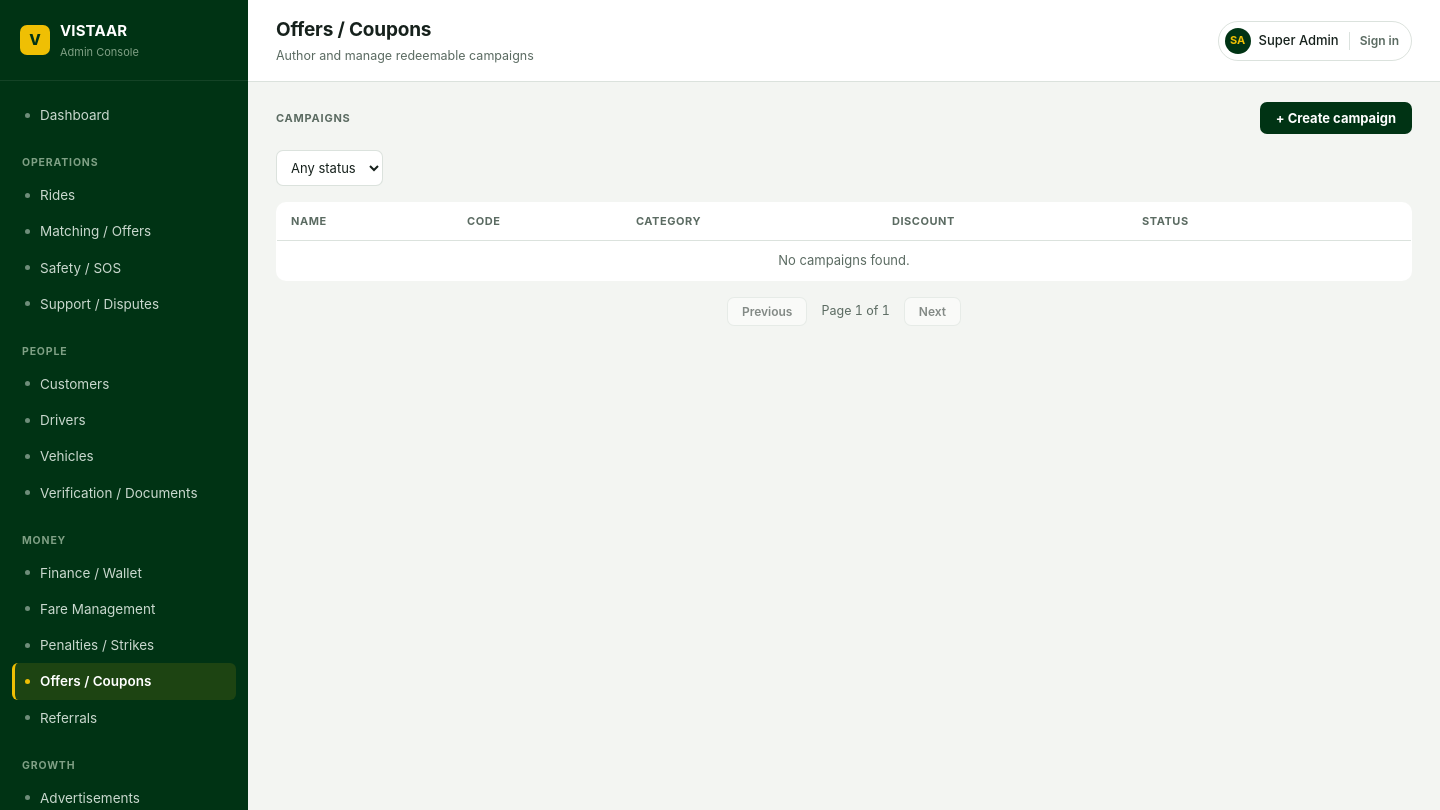
Scenario: CampaignsPage › creates a DRAFT campaign and refreshes the list
Expected: the text "No campaigns found." is shown, [276,240,1412,281]
Click the button "+ Create campaign".
click(1336, 118)  # box [1260,102,1412,134]
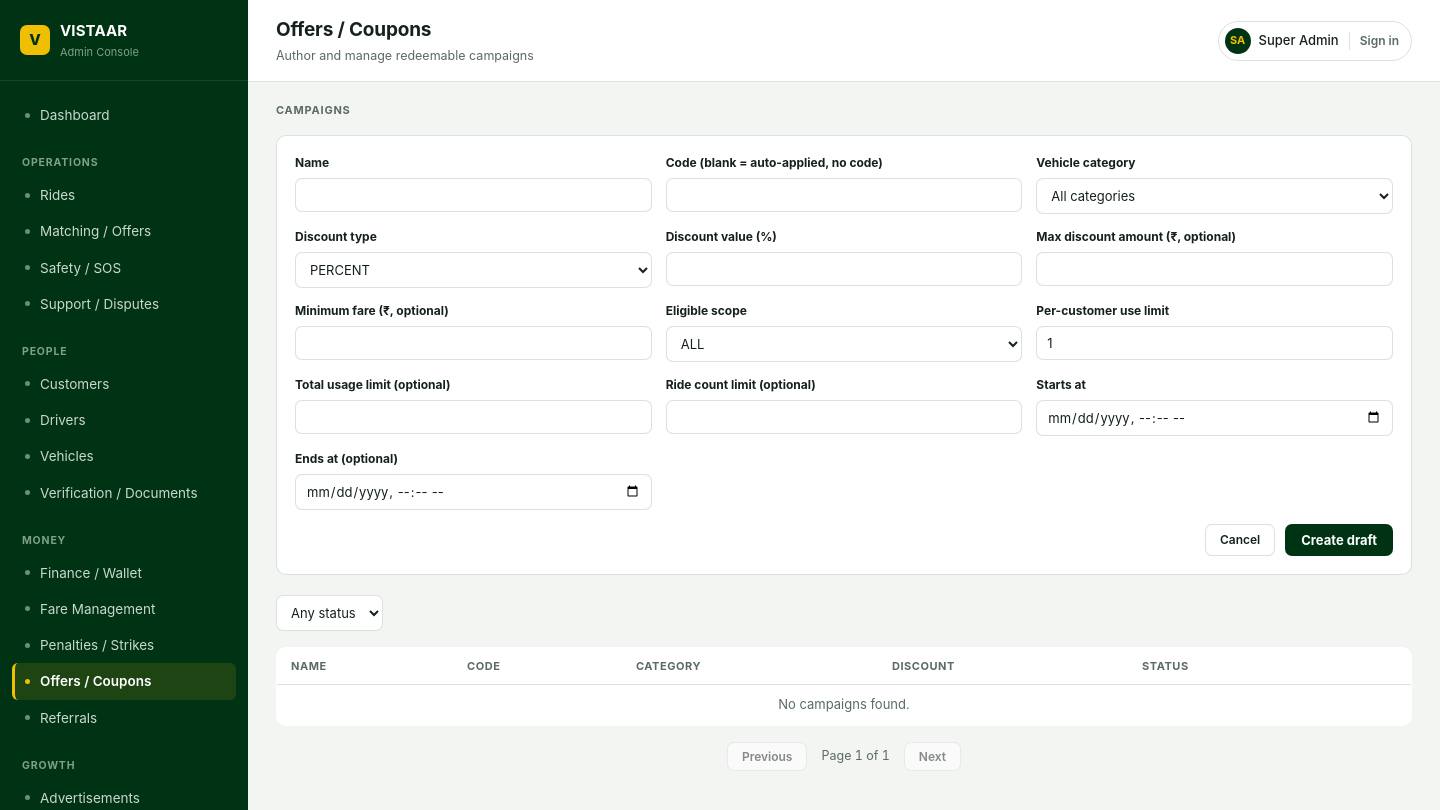
Type "50% off launch week" into the field labelled "Name".
click(473, 195); type("50% off launch week")  # box [295,178,652,212]
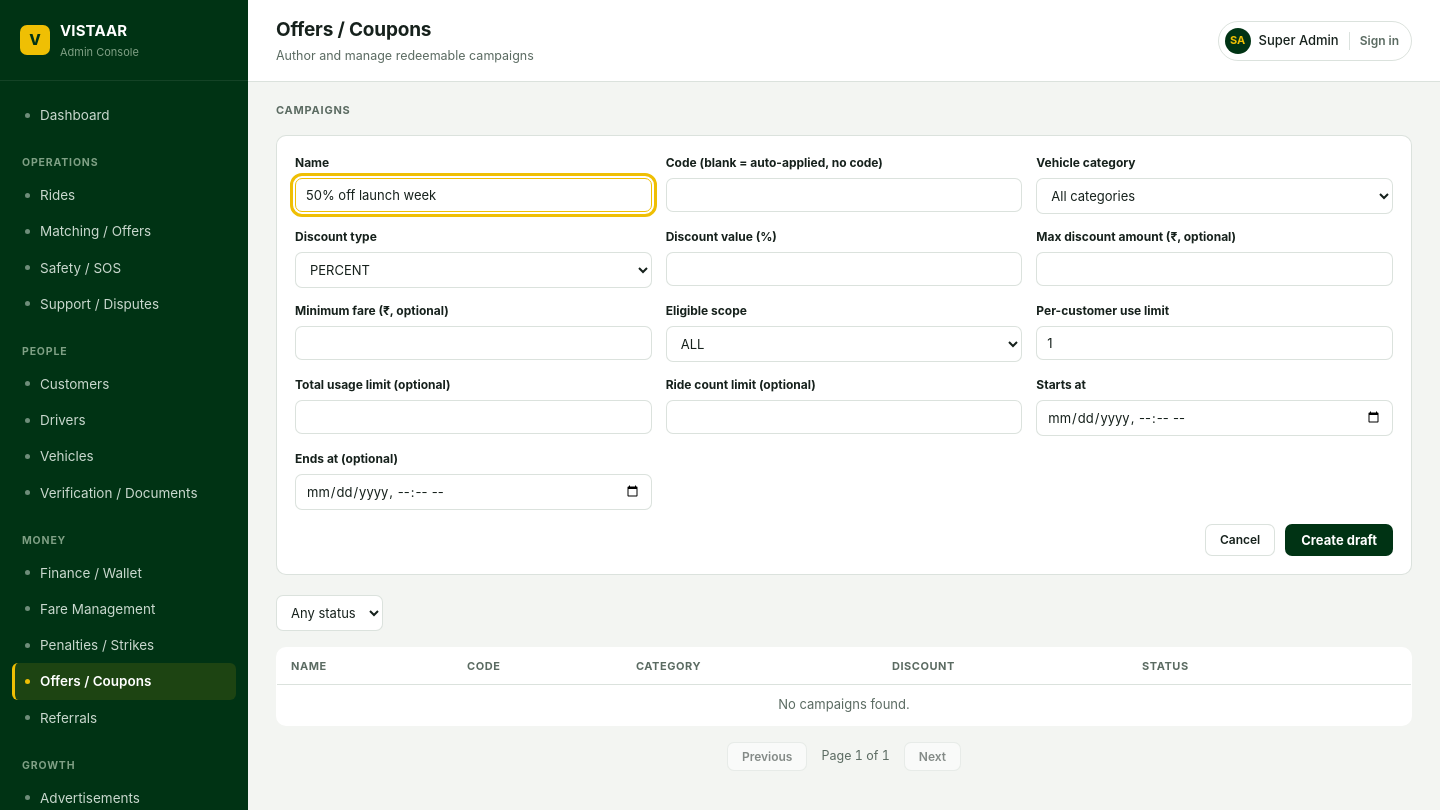
Type "50" into the number field labelled "Discount value (%)".
click(844, 269); type("50")  # box [666,252,1022,286]
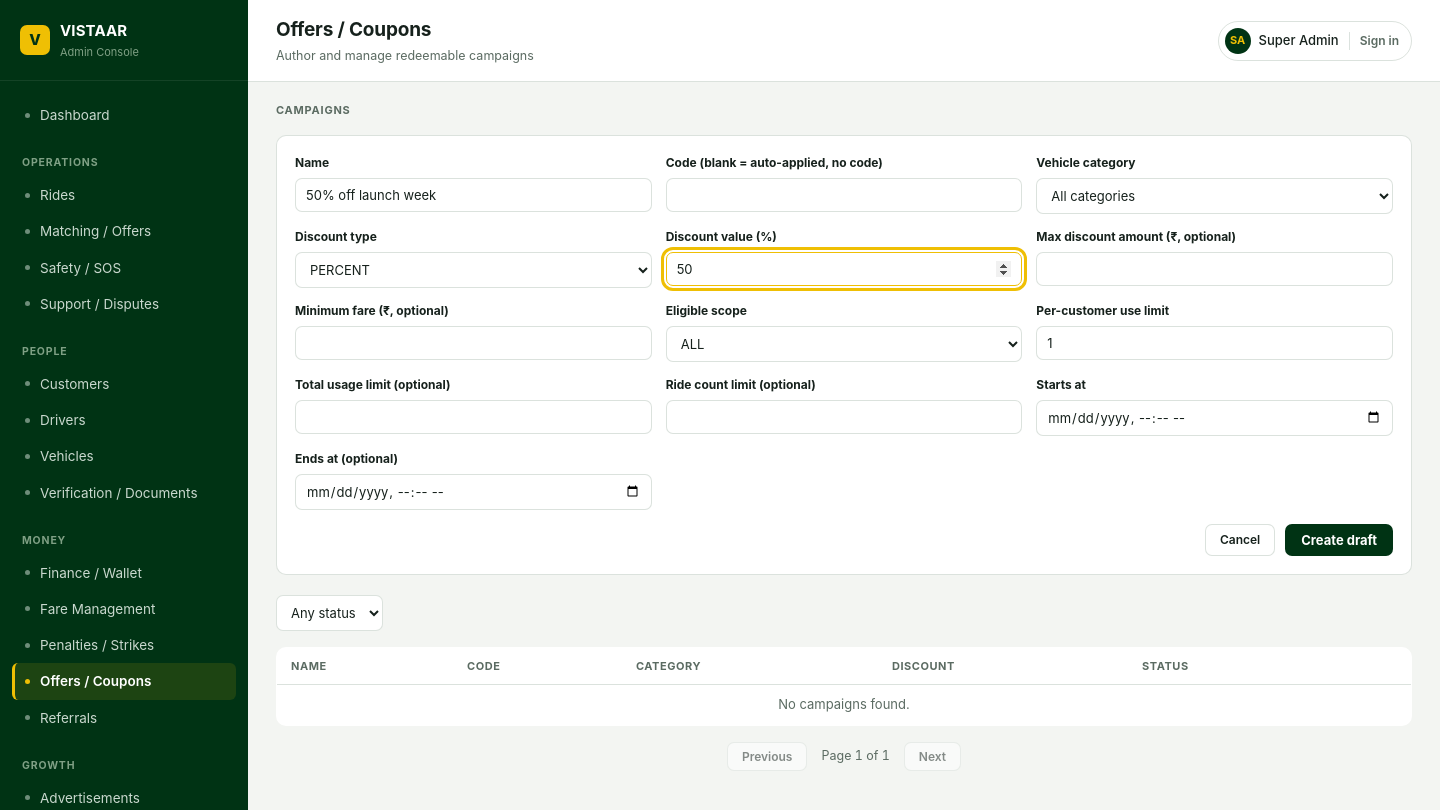
Type "2026-08-10T00:00" into the field labelled "Starts at".
click(1215, 418); type("2026-08-10T00:00")  # box [1036,400,1393,436]
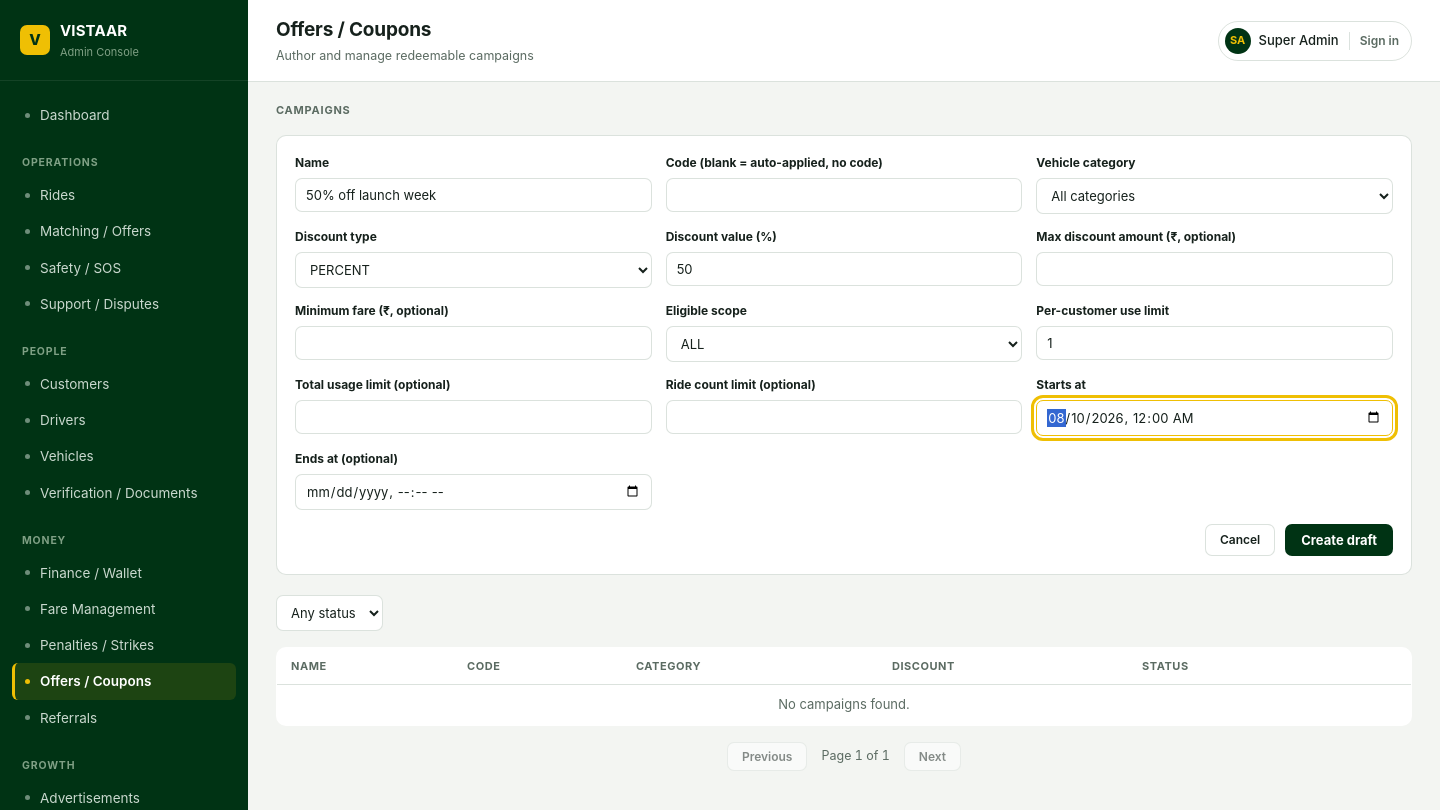
Click the button "Create draft".
click(1339, 540)  # box [1285,524,1393,556]
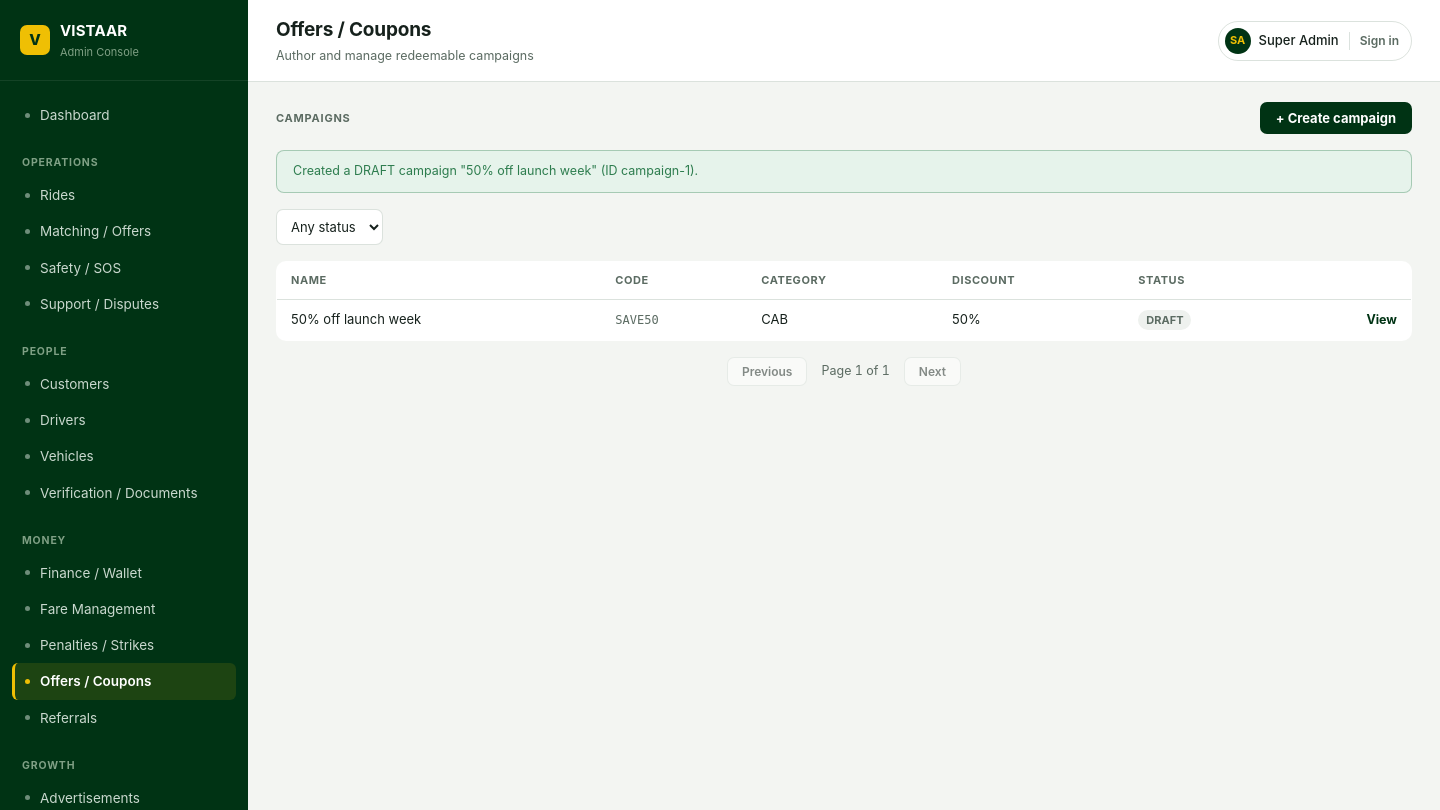
Expected: the cell "50% off launch week" is shown, [276,299,601,340]
Expected: the text "Created a DRAFT campaign \"50% off launch week\" (ID campaign-1)." is shown, [276,150,1412,193]
